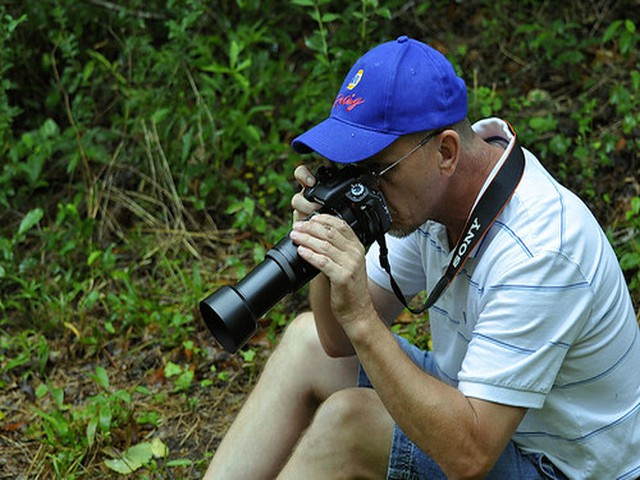Person: (318, 30, 636, 475)
